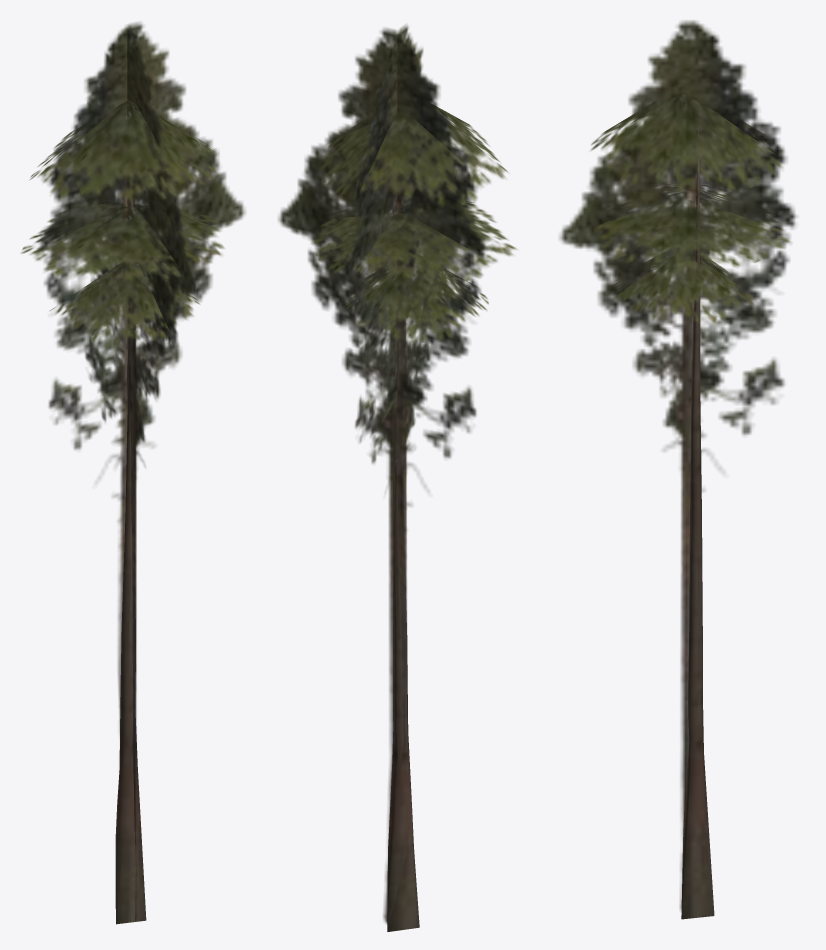
Rendered from tree-card.glb.
3 renders of one model, left to right at view 1: azimuth 30°, elevation 25°; view 2: azimuth 150°, elevation 25°; view 3: azimuth 270°, elevation 25°, orthographic.
Visible parts, largest first — view 1: Background_Tree_Atlas.005_Background_Tree_Atlas_0; view 2: Background_Tree_Atlas.005_Background_Tree_Atlas_0; view 3: Background_Tree_Atlas.005_Background_Tree_Atlas_0.
Boxes of the visible parts, x1,y1,x2,y2 form: Background_Tree_Atlas.005_Background_Tree_Atlas_0: (21, 22, 245, 924); Background_Tree_Atlas.005_Background_Tree_Atlas_0: (278, 24, 516, 931); Background_Tree_Atlas.005_Background_Tree_Atlas_0: (559, 20, 796, 919).
Bounding box in the file's own units: 8.87 × 33.27 × 8.55.
Materials: 1 (1 with a texture image).
